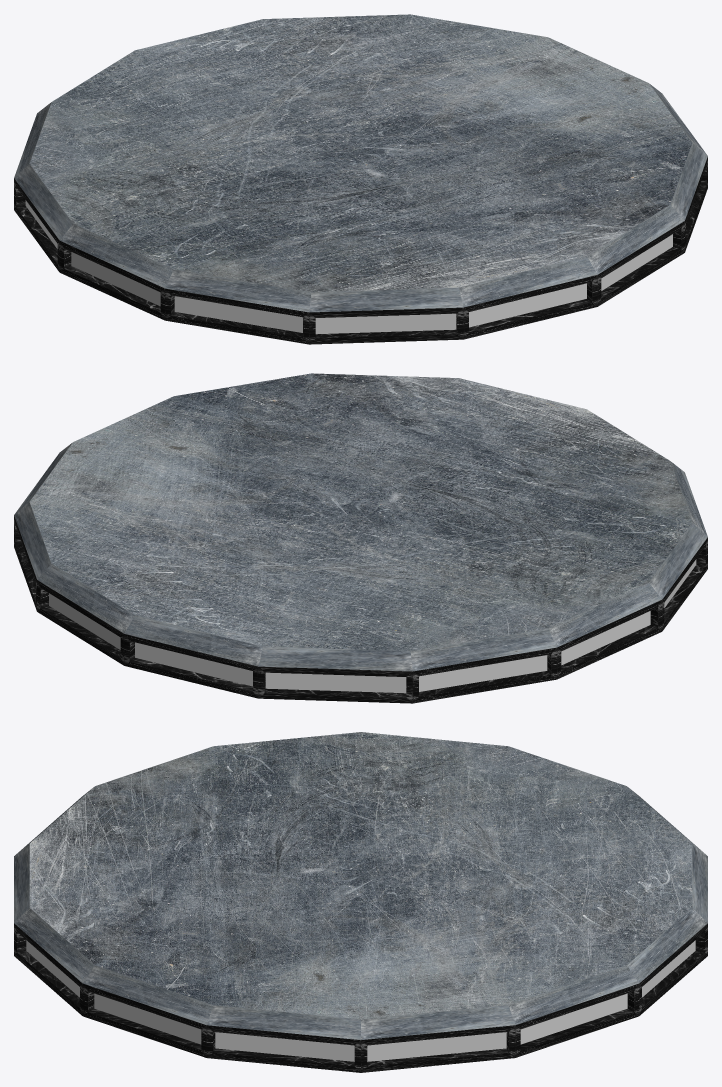
File: carramp.fbx
The picture shows the model from 3 angles, top to bottom: view 1: azimuth 30°, elevation 25°; view 2: azimuth 150°, elevation 25°; view 3: azimuth 270°, elevation 25°; orthographic projection. The views are drawn at different scales.
Visible parts, largest first — view 1: carramp; view 2: carramp; view 3: carramp.
Part boxes in pixels (<box>): carramp: <box>14,14,707,344</box>; carramp: <box>14,373,707,703</box>; carramp: <box>14,732,707,1072</box>.
Bounding box in the file's own units: 497 × 36.08 × 484.
Materials: 3 (2 with a texture image).
